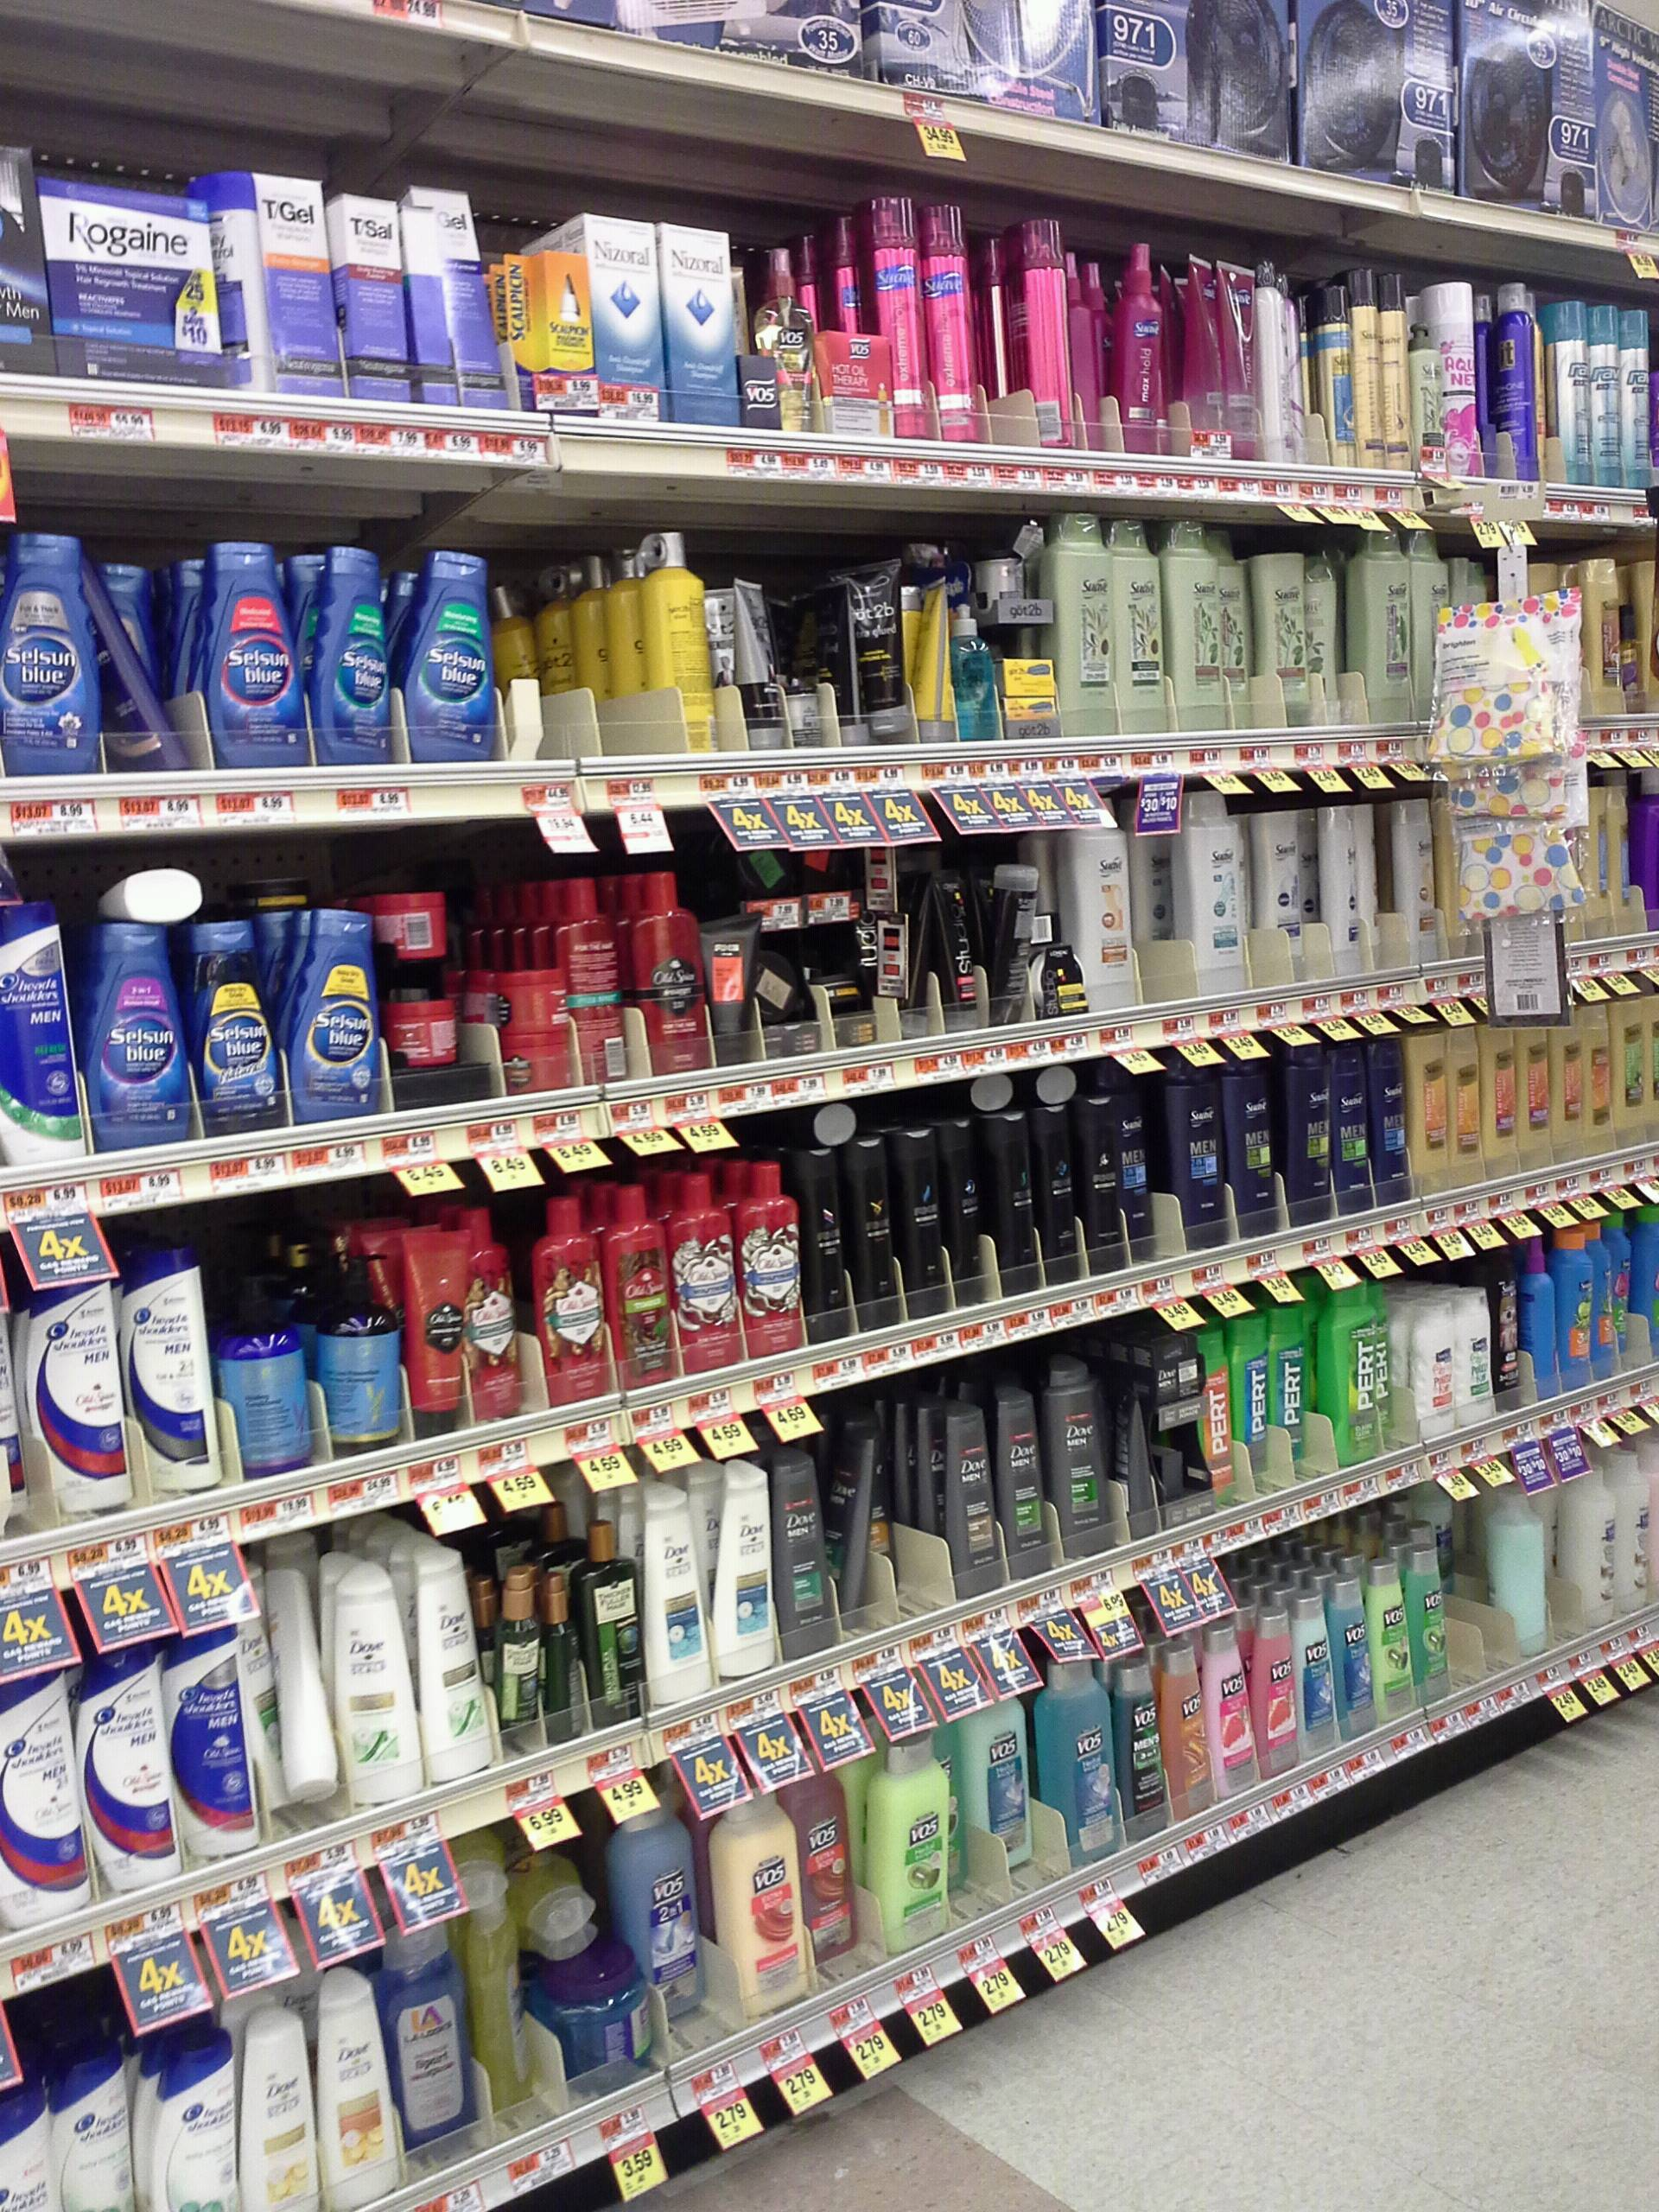Misplacement: (601, 1811, 741, 2062), (951, 1703, 1070, 1892)
